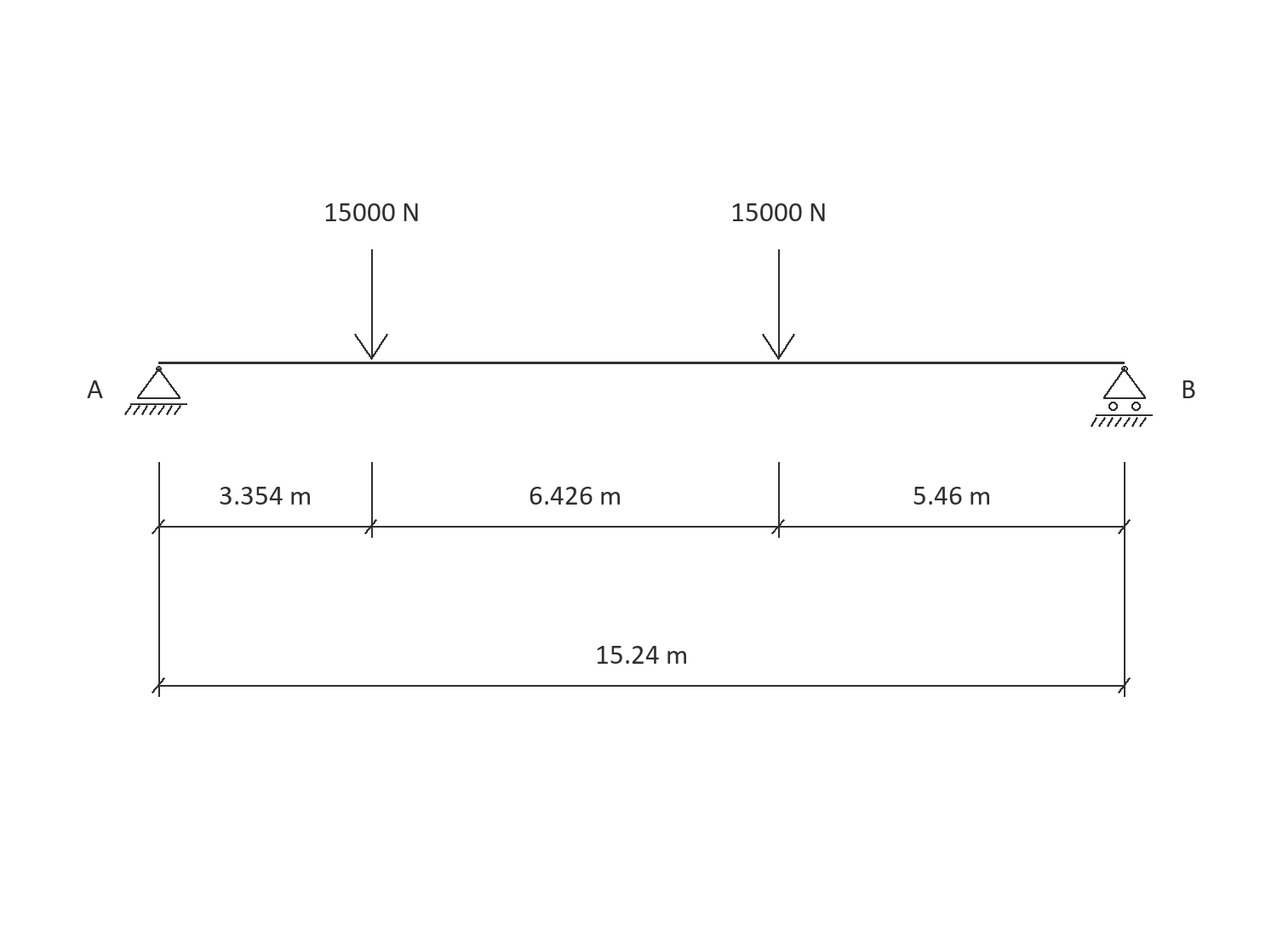pin_support: (124, 366, 187, 415)
point_load: (354, 249, 388, 360), (762, 249, 795, 360)
roller_support: (1091, 366, 1153, 427)
